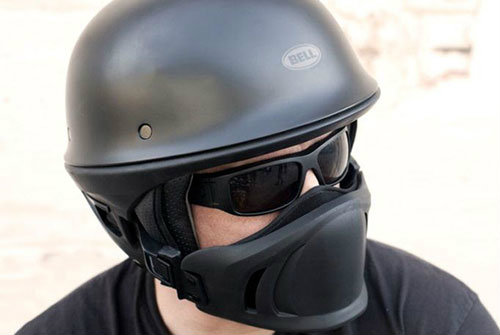Helmet: (51, 1, 444, 332)
